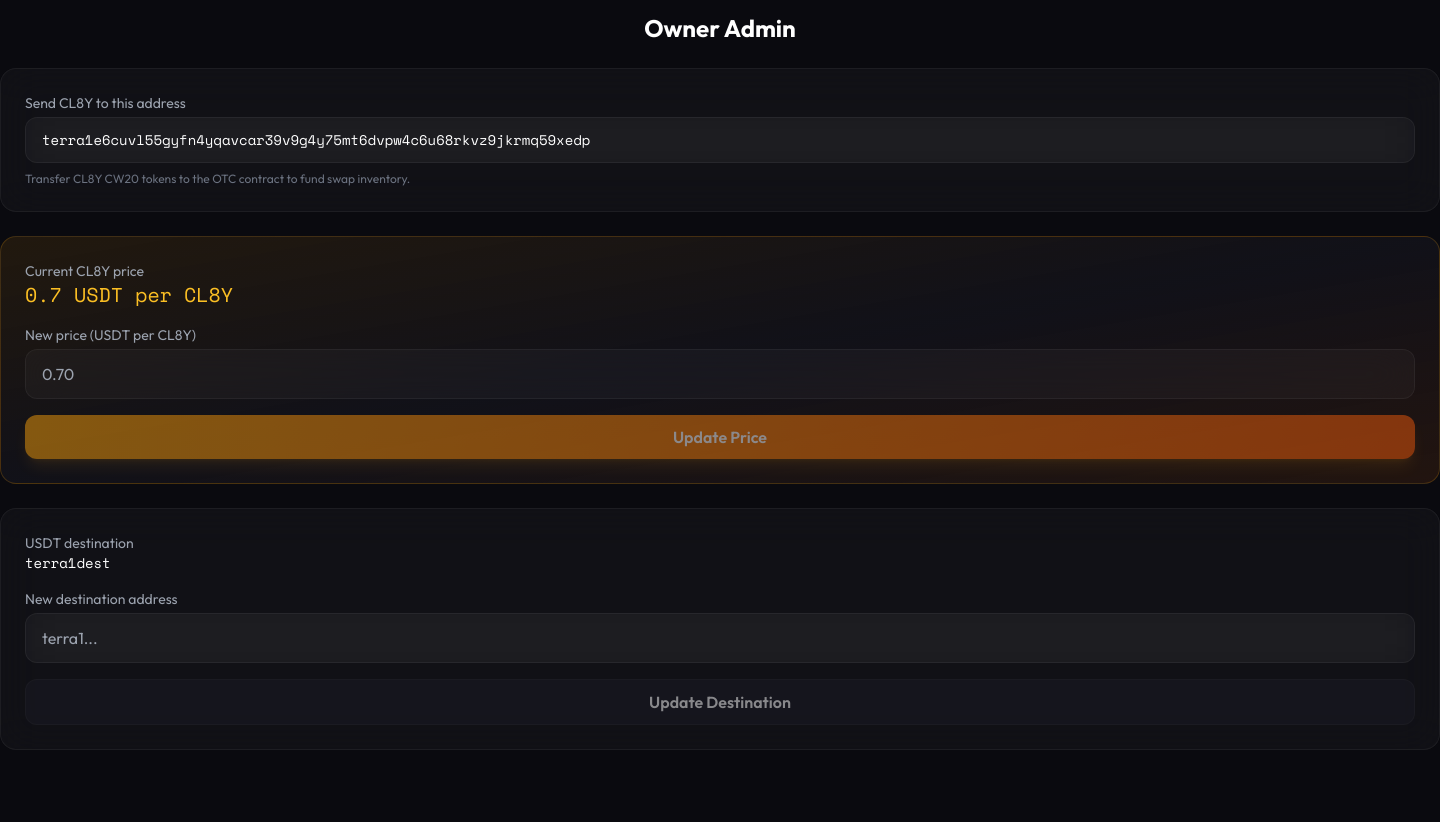
Test case: AdminPage › shows CL8Y deposit address with copy
The width and height of the screenshot is (1440, 822).
Expected: the text "Send CL8Y to this address" is shown, top-left (25, 93), bottom-right (186, 113)
Click the button "terra1e6cuvl55gyfn4yqavcar39v9g4y75mt6dvpw4c6u68rkvz9jkrmq59xedp" at (316, 140), box top-left (25, 117), bottom-right (1415, 163)
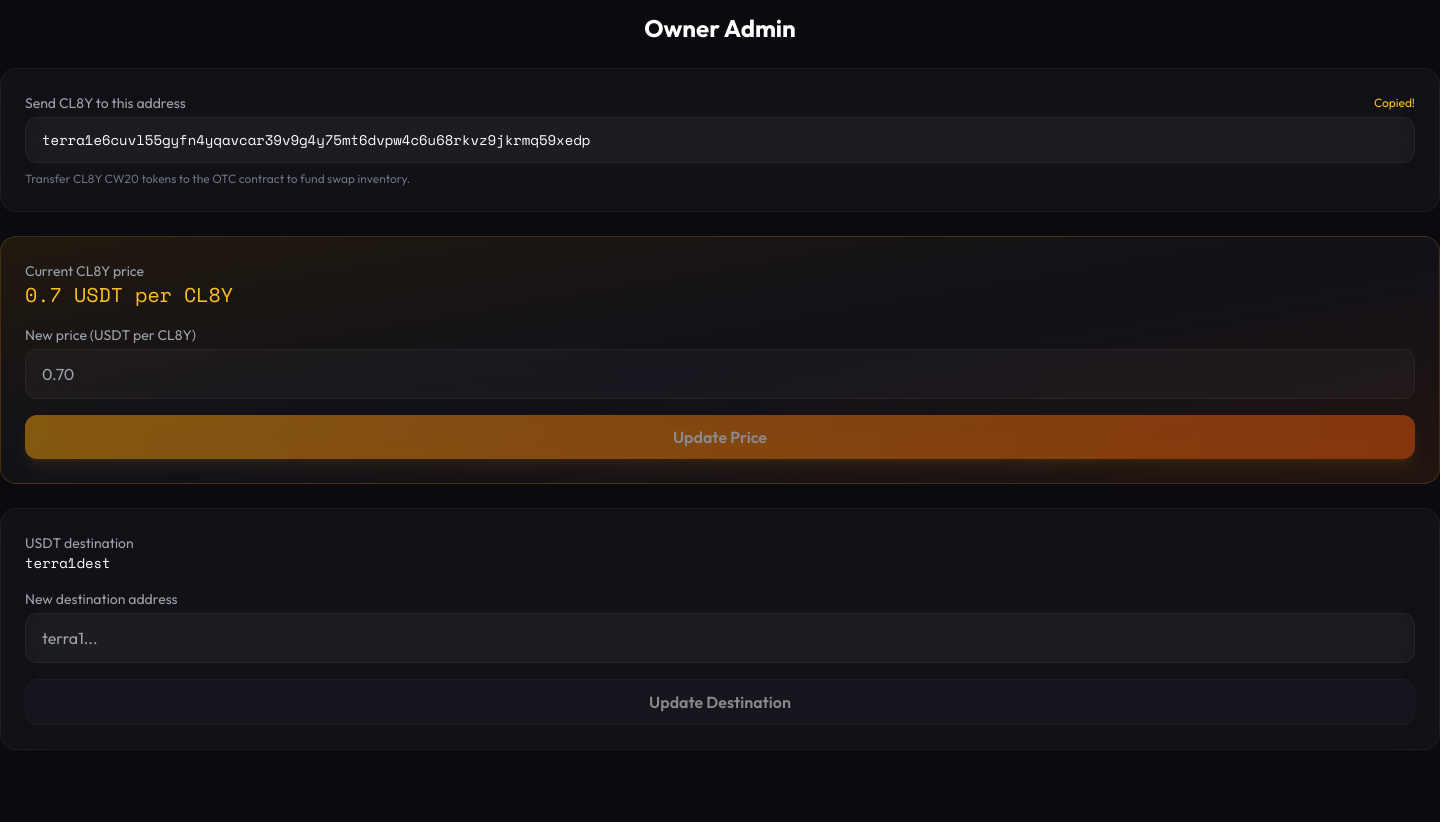
Expected: the text "Copied!" is shown, top-left (1374, 95), bottom-right (1415, 111)
